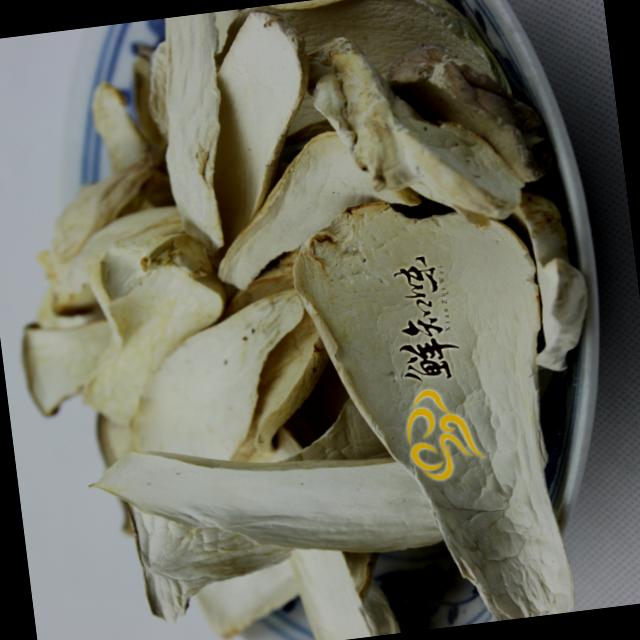Pleurotus eryngii: (282, 175, 600, 640), (89, 396, 433, 598), (67, 238, 240, 422)
